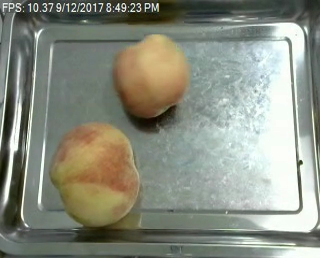Peach: (49, 121, 141, 228), (114, 33, 190, 118)
